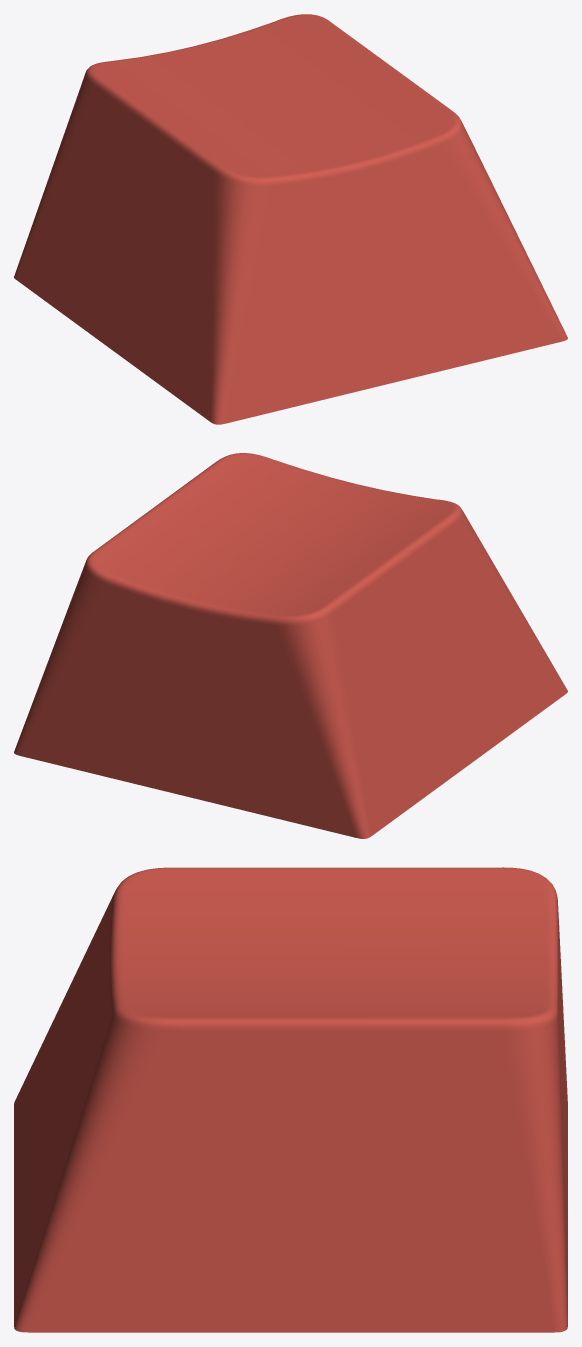
File: CHR-R1-1u.gltf
The picture shows the model from 3 angles, top to bottom: view 1: azimuth 30°, elevation 25°; view 2: azimuth 150°, elevation 25°; view 3: azimuth 270°, elevation 25°; orthographic projection. The views are drawn at different scales.
Parts seen in each view (by area): view 1: object 1; view 2: object 1; view 3: object 1.
Part boxes in pixels (bbox=[...]): object 1: bbox=[14, 14, 567, 424]; object 1: bbox=[14, 453, 567, 838]; object 1: bbox=[14, 867, 567, 1332].
Bounding box in the file's own units: 1.81 × 0.9803 × 1.81.
